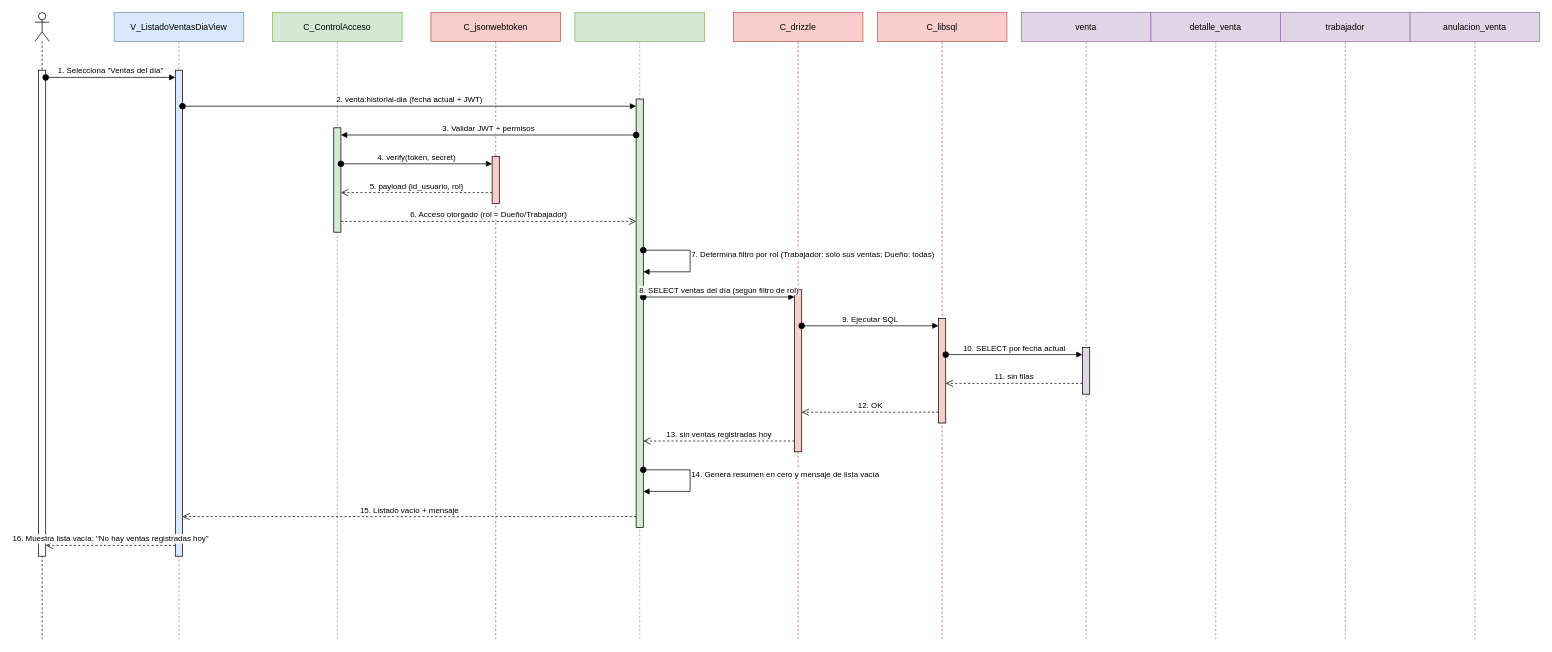
The diagram is 1552 pixels wide and 652 high, and some of its shapes have lost their labels. Here are the shapes that lost their labels. From the top down, the box of each, then its label:
(34, 12, 49, 639): Dueño / Trabajador
(574, 12, 705, 639): C_HistorialVentasHandler
